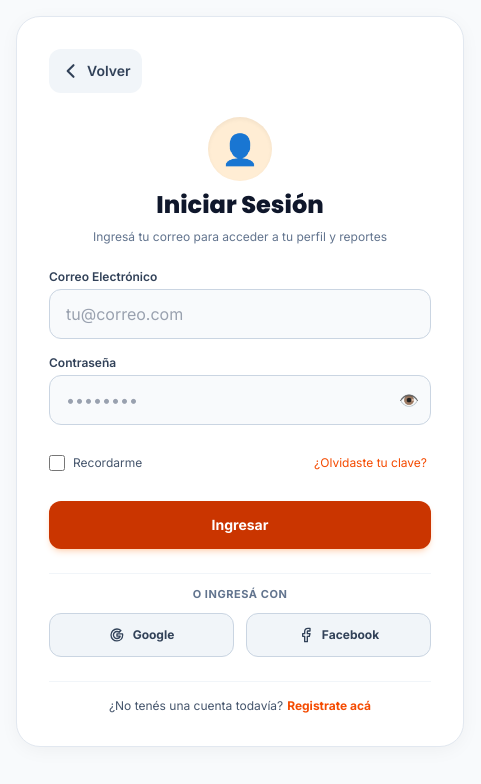
Test case: LoginPage › valida con zod que la contraseña tenga al menos 6 caracteres con el mensaje exacto
Type "miembro@callejeros.ar" into the field labelled "Correo Electrónico".
click(240, 314); type("miembro@callejeros.ar")  # box [49,289,431,339]
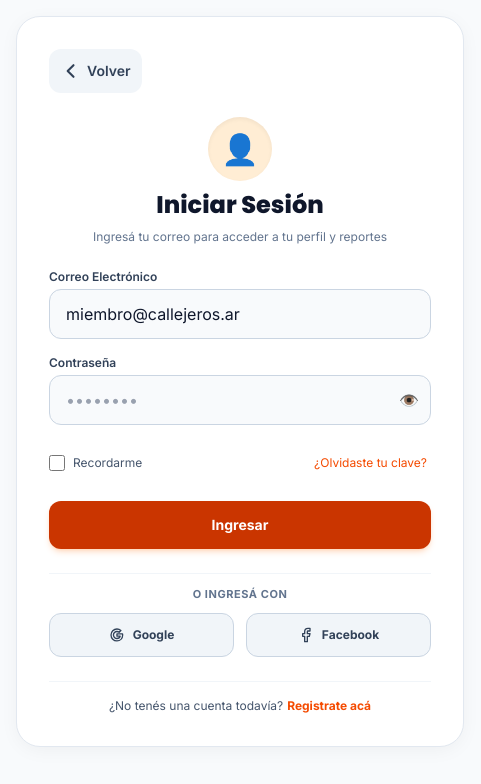
Type "12345" into the password field labelled "Contraseña".
click(240, 400); type("12345")  # box [49,375,431,425]
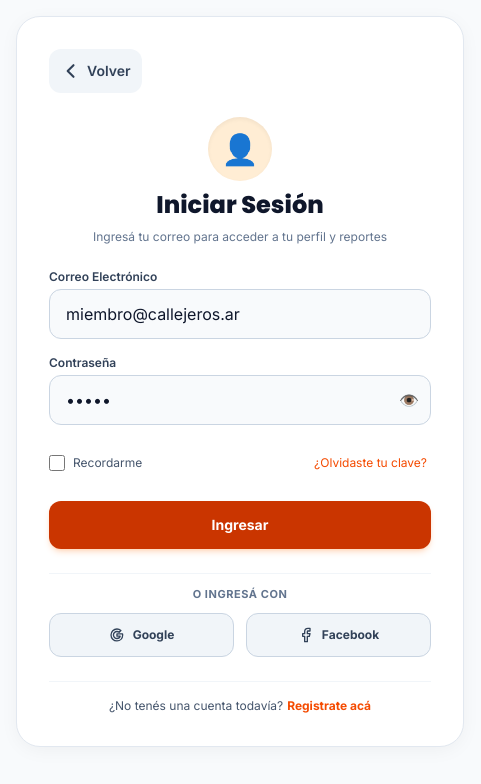
Click the button "Ingresar".
click(240, 525)  # box [49,501,431,549]
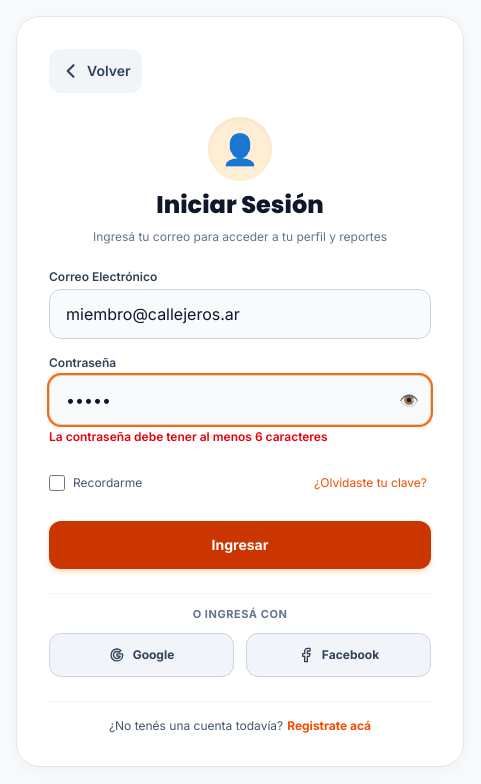
Expected: the text "La contraseña debe tener al menos 6 caracteres" is shown, [49,429,328,444]
